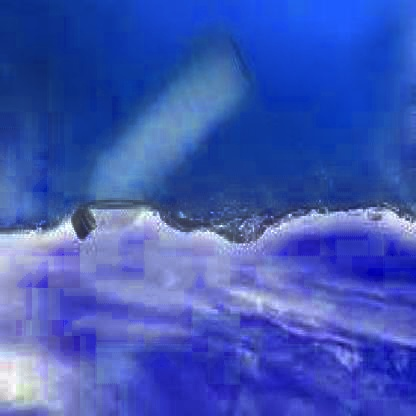pbottle: (64, 25, 257, 250)
